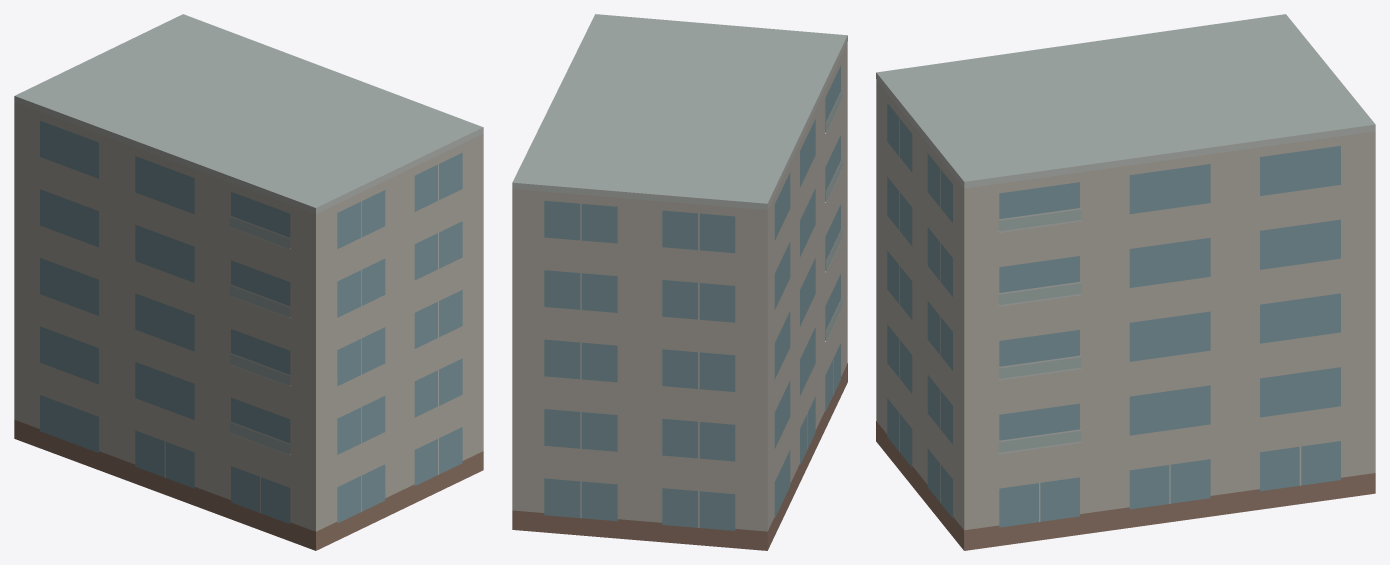
The model's file is survey-upis-32949909.glb.
3 views of the same model, side by side, from view 1: azimuth 30°, elevation 25°; view 2: azimuth 150°, elevation 25°; view 3: azimuth 270°, elevation 25° (orthographic). The views are drawn at different scales.
Parts seen in each view (by area): view 1: survey-upis-32949909.tmp; view 2: survey-upis-32949909.tmp; view 3: survey-upis-32949909.tmp.
Boxes of the visible parts, x1,y1,x2,y2 form: survey-upis-32949909.tmp: (14,14,483,550); survey-upis-32949909.tmp: (512,14,847,550); survey-upis-32949909.tmp: (876,14,1375,550).
Size of the model in its own units: 13.13 by 13.45 by 16.51.
